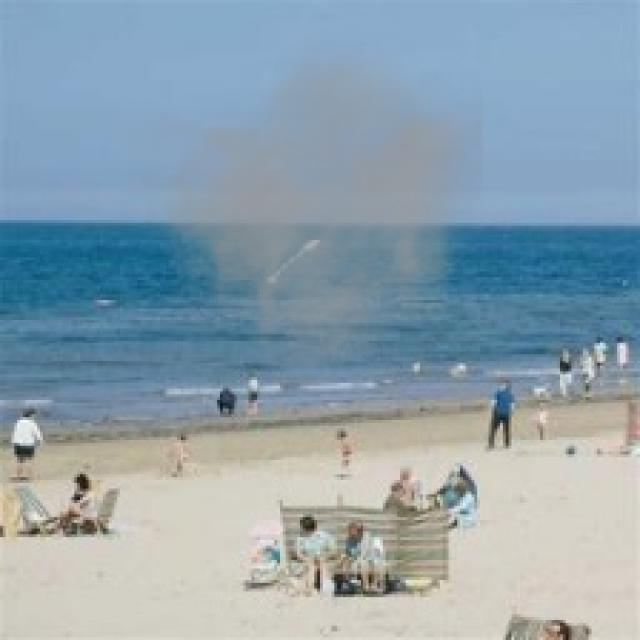smoke: (126, 29, 483, 392)
